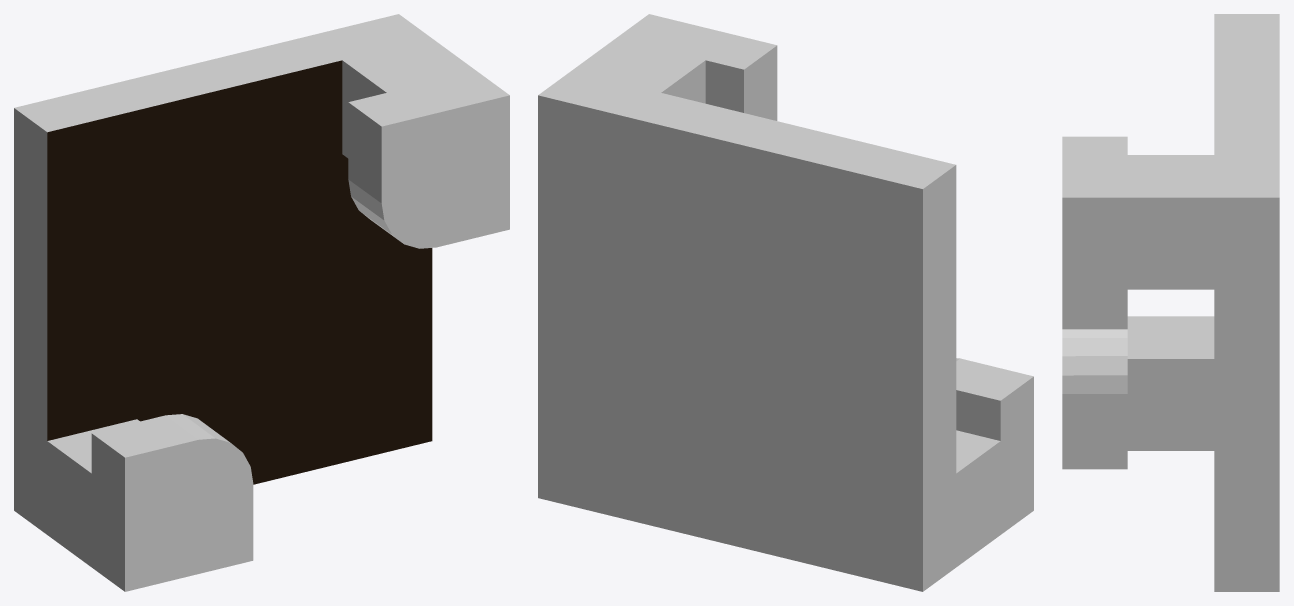
File: block_edge_opposite.fbx
3 views of the same model, side by side, from view 1: azimuth 30°, elevation 25°; view 2: azimuth 150°, elevation 25°; view 3: azimuth 270°, elevation 25° (orthographic). The views are drawn at different scales.
Parts seen in each view (by area): view 1: block_edge_opposite; view 2: block_edge_opposite; view 3: block_edge_opposite.
Part boxes in pixels (<box>): block_edge_opposite: <box>14,14,509,591</box>; block_edge_opposite: <box>538,14,1033,591</box>; block_edge_opposite: <box>1062,14,1279,591</box>.
Bounding box in the file's own units: 0.2 × 0.2 × 0.1.
